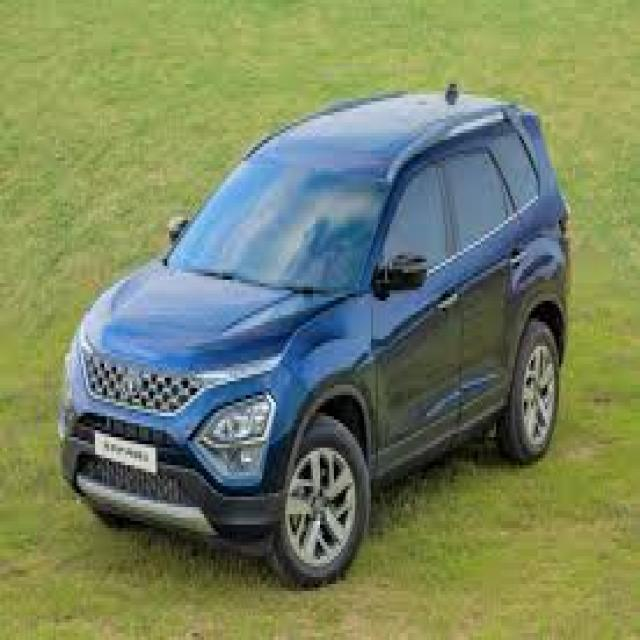Car: (59, 85, 569, 585), (59, 89, 569, 585)
